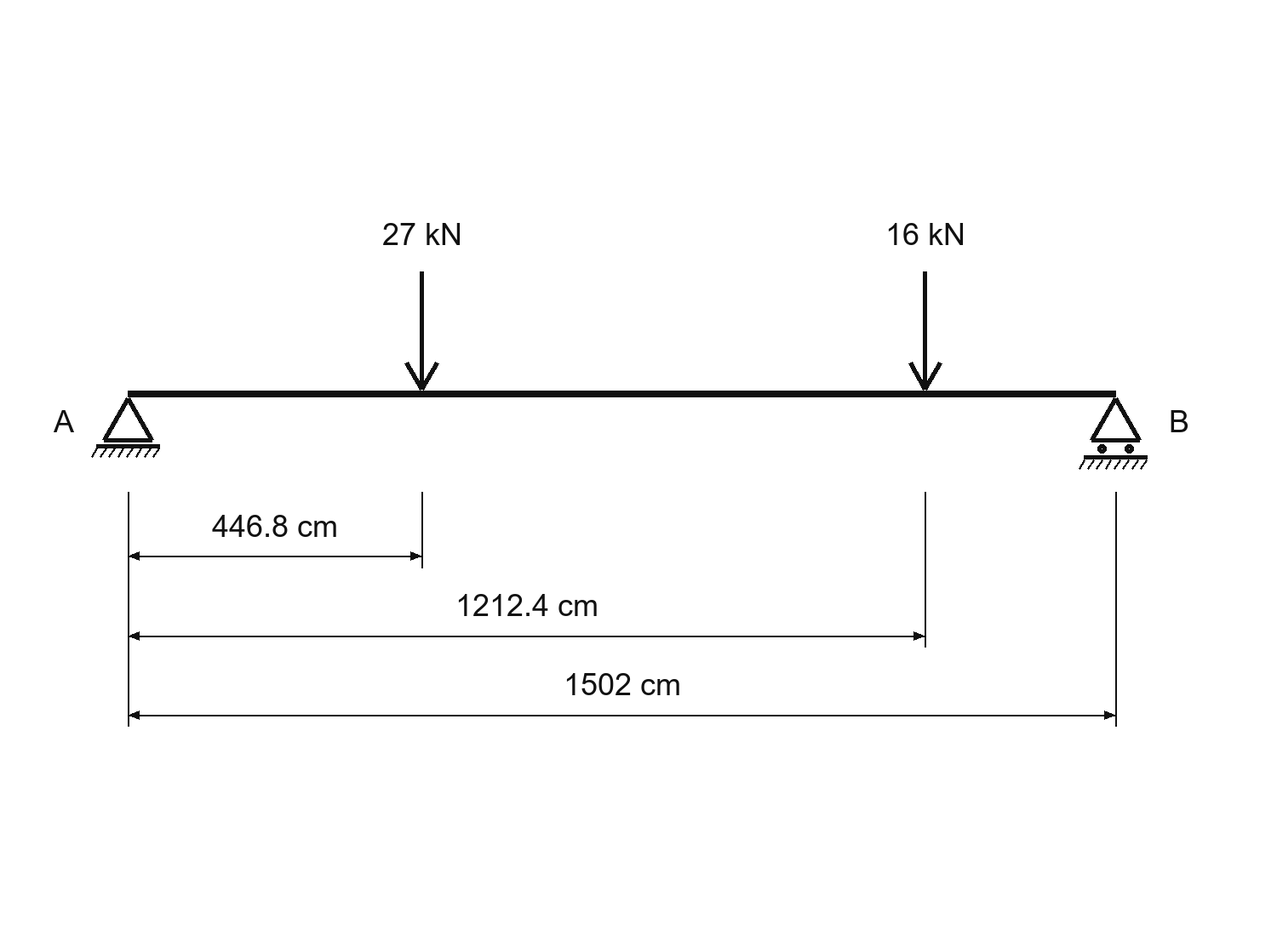pin_support: (91, 397, 160, 458)
point_load: (404, 271, 439, 391), (908, 271, 942, 391)
roller_support: (1079, 397, 1148, 470)
